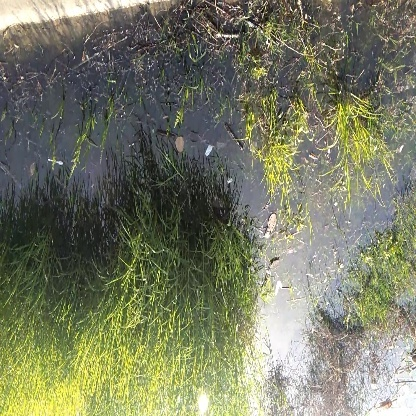grass: (331, 94, 391, 185)
